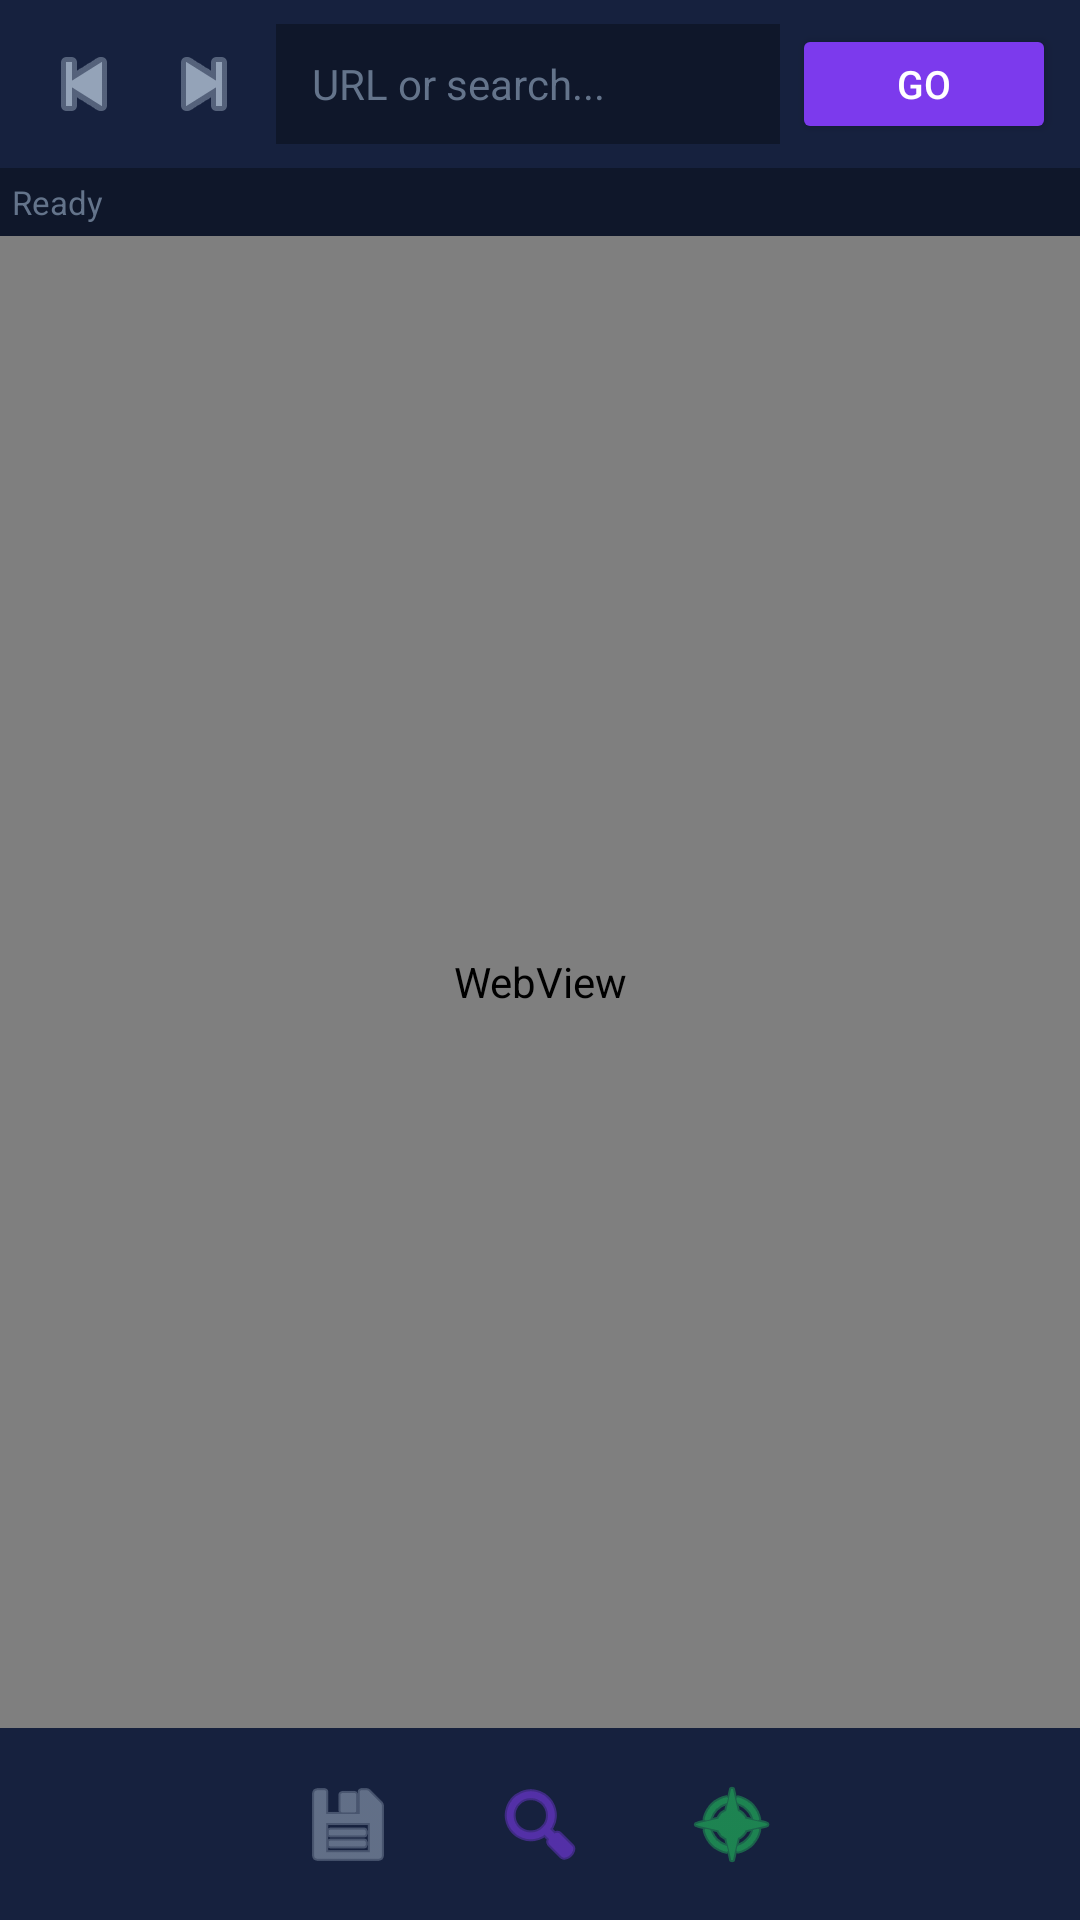

Named icons in this screenshot (1080w x 1920h) and their bounding boxes, [left=x1, top=y1, right=x2, bottom=y2]:
Download: [left=312, top=1788, right=384, bottom=1861]
next: [left=181, top=57, right=227, bottom=111]
previous: [left=61, top=57, right=107, bottom=111]
